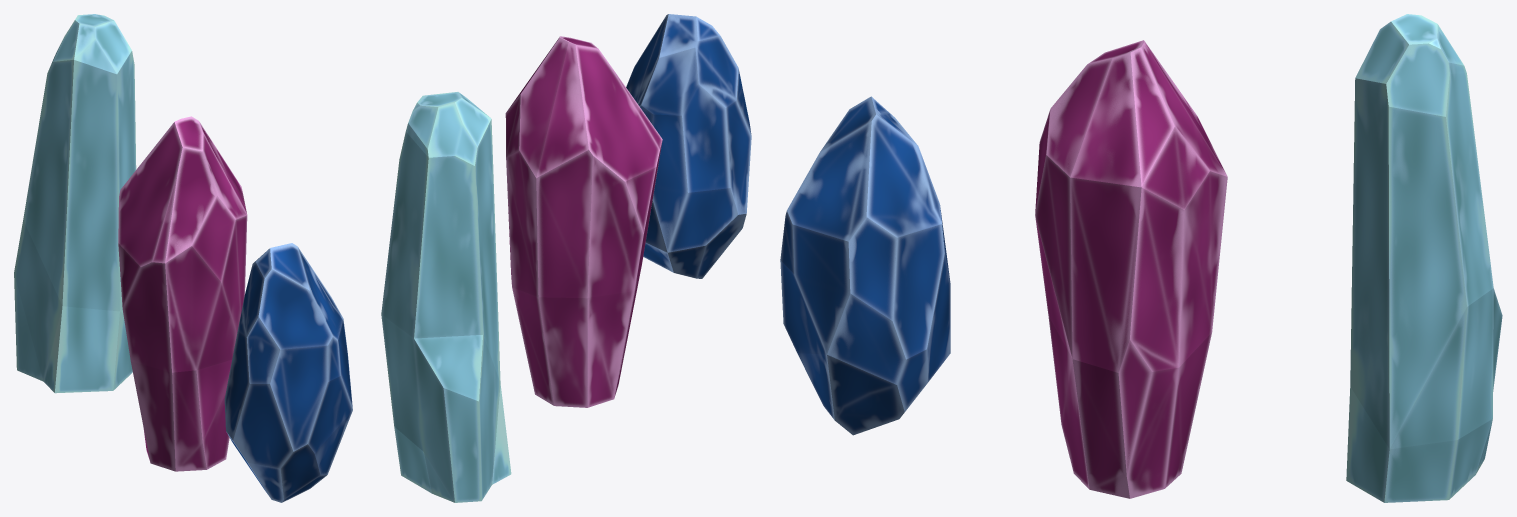
File: lowpolycrystals.fbx
3 views of the same model, side by side, from view 1: azimuth 30°, elevation 25°; view 2: azimuth 150°, elevation 25°; view 3: azimuth 270°, elevation 25° (orthographic). The views are drawn at different scales.
Parts seen in each view (by area): view 1: Crystal3, Crystal1, Crystal2; view 2: Crystal1, Crystal3, Crystal2; view 3: Crystal1, Crystal3, Crystal2.
Boxes of the visible parts, left/top/right/bottom form: Crystal3: left=14, top=14, right=136, bottom=393; Crystal1: left=118, top=116, right=247, bottom=471; Crystal2: left=224, top=243, right=352, bottom=502; Crystal1: left=505, top=36, right=662, bottom=407; Crystal3: left=381, top=92, right=511, bottom=502; Crystal2: left=626, top=14, right=751, bottom=278; Crystal1: left=1035, top=40, right=1227, bottom=498; Crystal3: left=1346, top=14, right=1502, bottom=502; Crystal2: left=780, top=96, right=950, bottom=435.
Bounding box in the file's own units: 189 × 514 × 730.
Materials: 3 (3 with a texture image).
